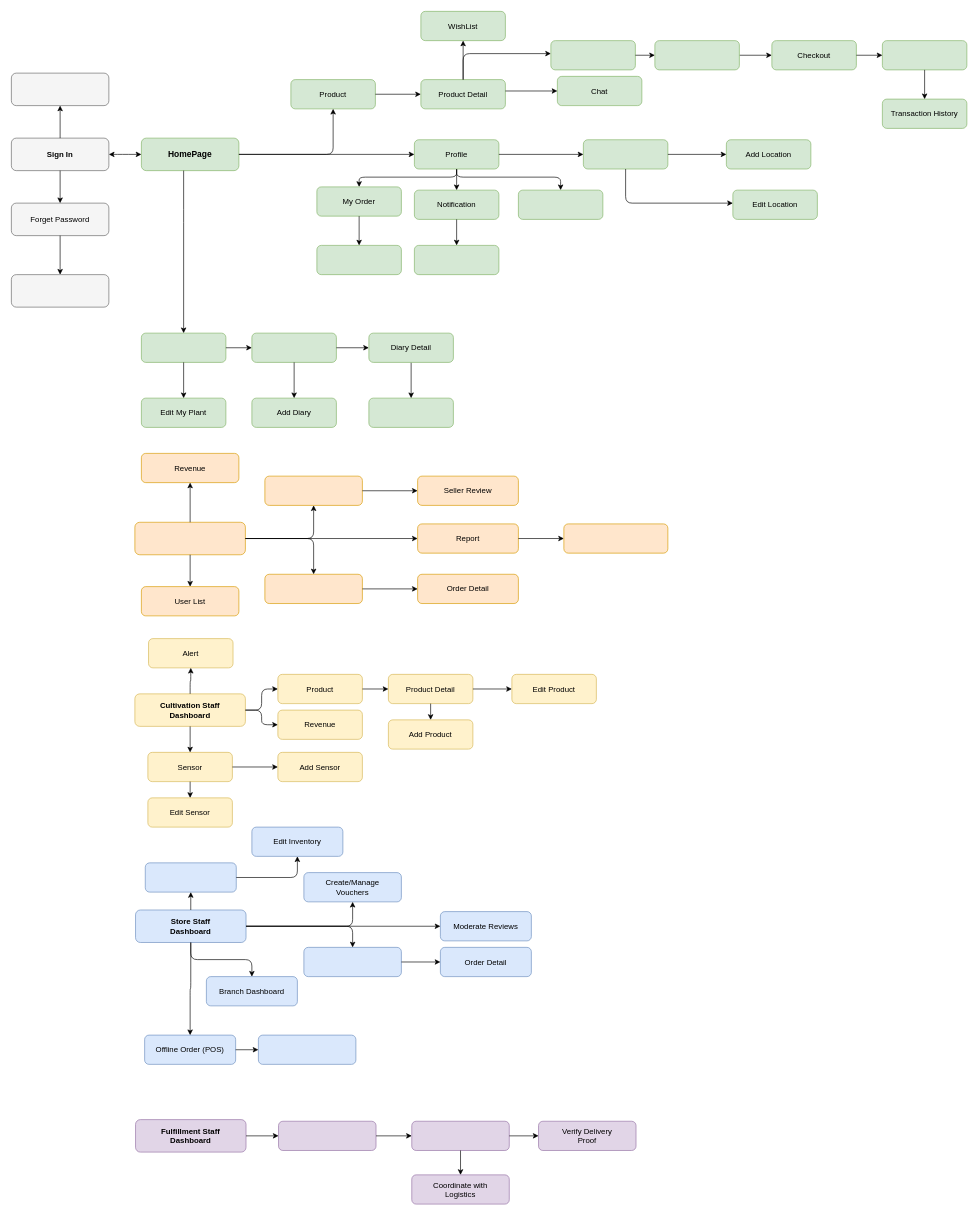
This 978x1216 diagram has some shape labels left out. Each missing label, with the centre of its shape:
Add Notification: pixel 456 260
Admin - Dashboard: pixel 189 538
Cart: pixel 592 55
Change Password: pixel 60 290
Edit Diary: pixel 410 412
Edit Profile: pixel 560 204
Location: pixel 625 154
My Plant: pixel 183 347
Order: pixel 313 589
Order Fulfillment Queue: pixel 327 1135
Order History: pixel 358 260
Order List (Accept/Reject): pixel 352 962
Payment Screen: pixel 924 55
Pickup Verification (BOPIS): pixel 307 1049
Plant Diary: pixel 293 347
Report Detail: pixel 615 538
Seller List: pixel 313 490
Sign Up: pixel 60 89
Stock Inventory: pixel 190 877
Update Order Tracking Status: pixel 460 1135
Voucher: pixel 696 55
